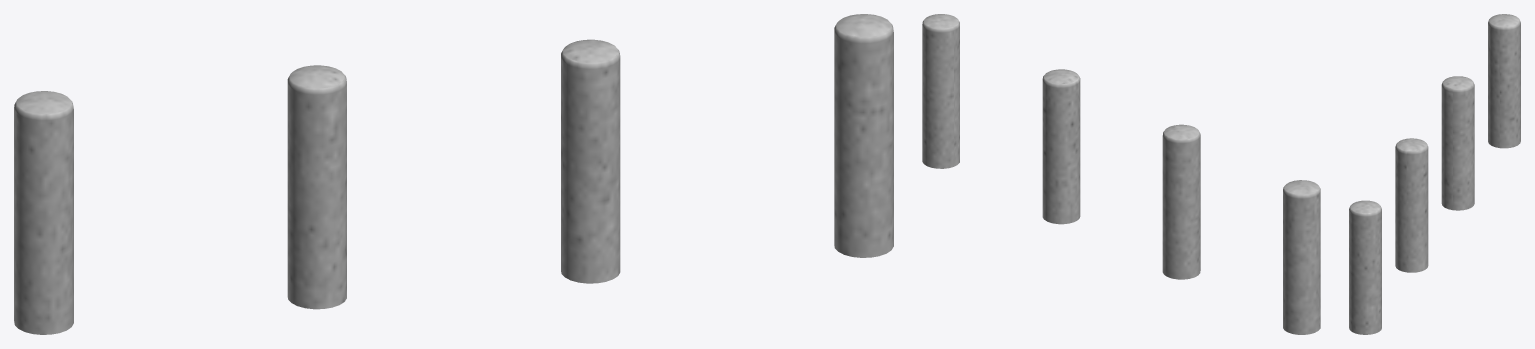
The model's file is tj_post_barrier.fbx.
The picture shows the model from 3 angles, left to right: view 1: azimuth 30°, elevation 25°; view 2: azimuth 150°, elevation 25°; view 3: azimuth 270°, elevation 25°; orthographic projection. The views are drawn at different scales.
Visible parts, largest first — view 1: tj_post_barrier_LOD0; view 2: tj_post_barrier_LOD0; view 3: tj_post_barrier_LOD0.
Part boxes in pixels (box(x1,y1,x2,y2)): tj_post_barrier_LOD0: box(14, 14, 893, 334); tj_post_barrier_LOD0: box(922, 14, 1320, 334); tj_post_barrier_LOD0: box(1349, 14, 1520, 334).
Size of what is drawn, in the model's own units: 3.57 by 1.02 by 1.3.
1 material, 1 textured.
